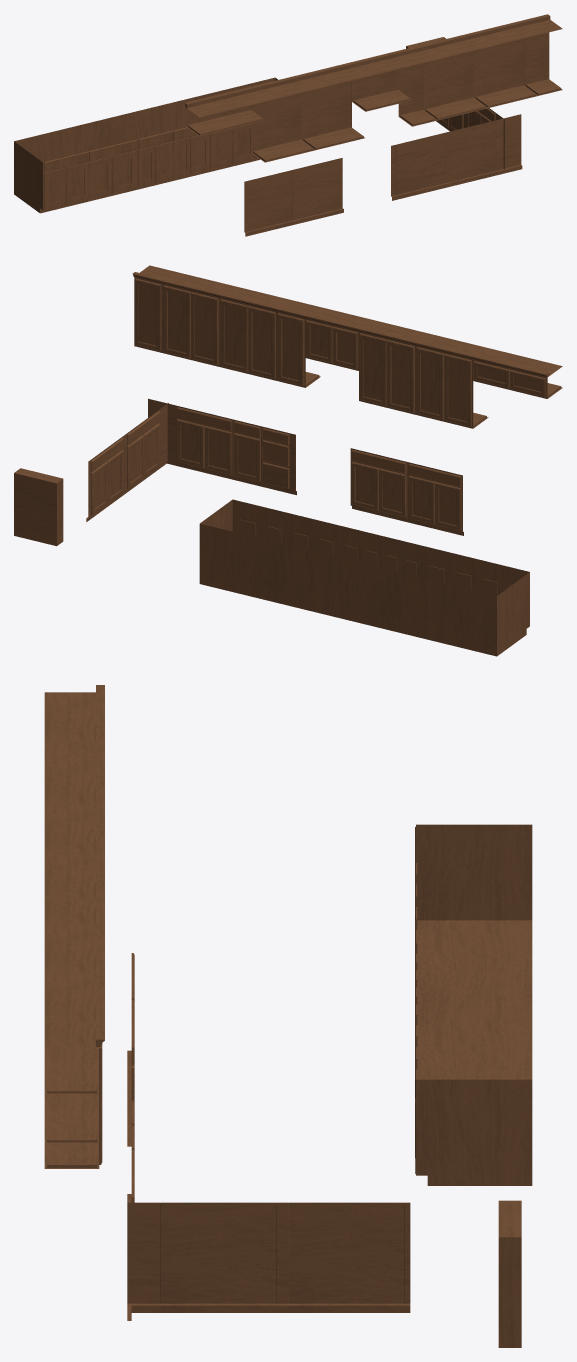
The model's file is 1860_kitchen_cabinets_truffle.gltf.
3 renders of one model, top to bottom at view 1: azimuth 30°, elevation 25°; view 2: azimuth 150°, elevation 25°; view 3: azimuth 270°, elevation 25°, orthographic. The views are drawn at different scales.
Visible parts, largest first — view 1: Box5855; view 2: Box5855; view 3: Box5855.
Part boxes in pixels (x1=…): Box5855: x1=14, y1=14, x2=562, y2=236; Box5855: x1=14, y1=265, x2=562, y2=656; Box5855: x1=44, y1=685, x2=532, y2=1347.
Size of the model in its own units: 8.5 by 2.93 by 4.2.
1 material, 1 textured.
